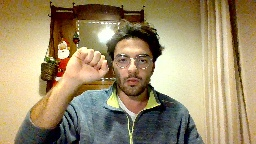Pugno: (64, 43, 110, 86)
